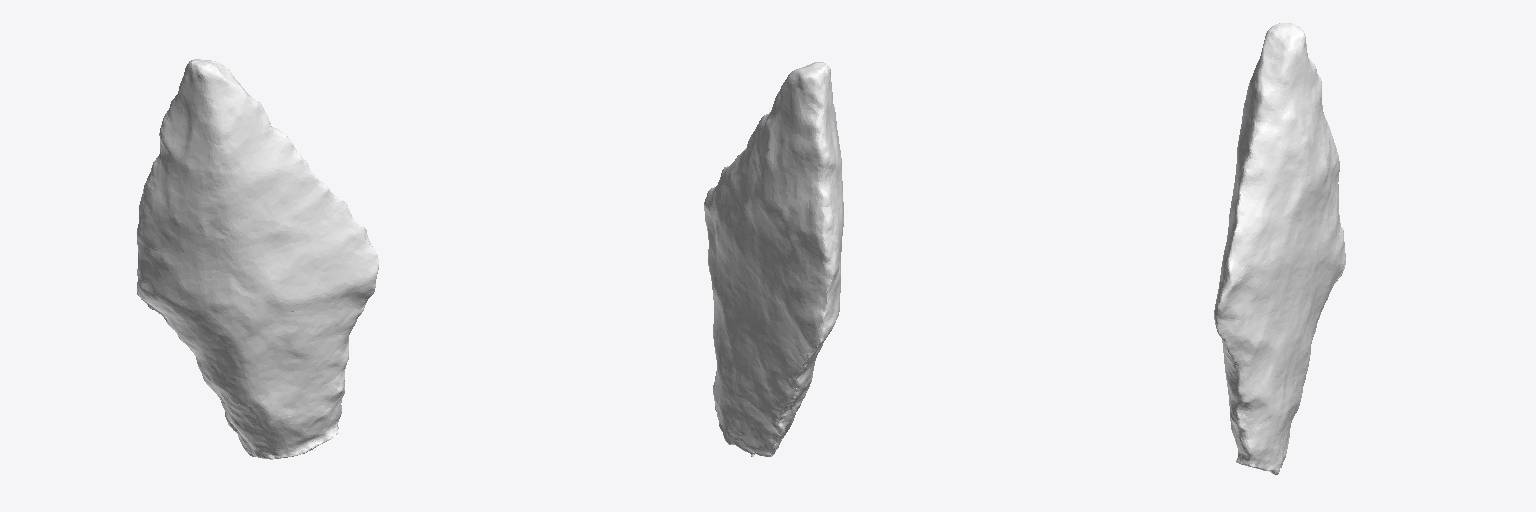
The model's file is pc498real.obj.
3 views of the same model, side by side, from view 1: azimuth 30°, elevation 25°; view 2: azimuth 150°, elevation 25°; view 3: azimuth 270°, elevation 25° (orthographic).
Parts seen in each view (by area): view 1: pc498; view 2: pc498; view 3: pc498.
Boxes of the visible parts, x1,y1,x2,y2 form: pc498: [137, 59, 378, 459]; pc498: [704, 62, 843, 456]; pc498: [1214, 23, 1345, 474].
Bounding box in the file's own units: 0.359 × 0.7574 × 0.222.